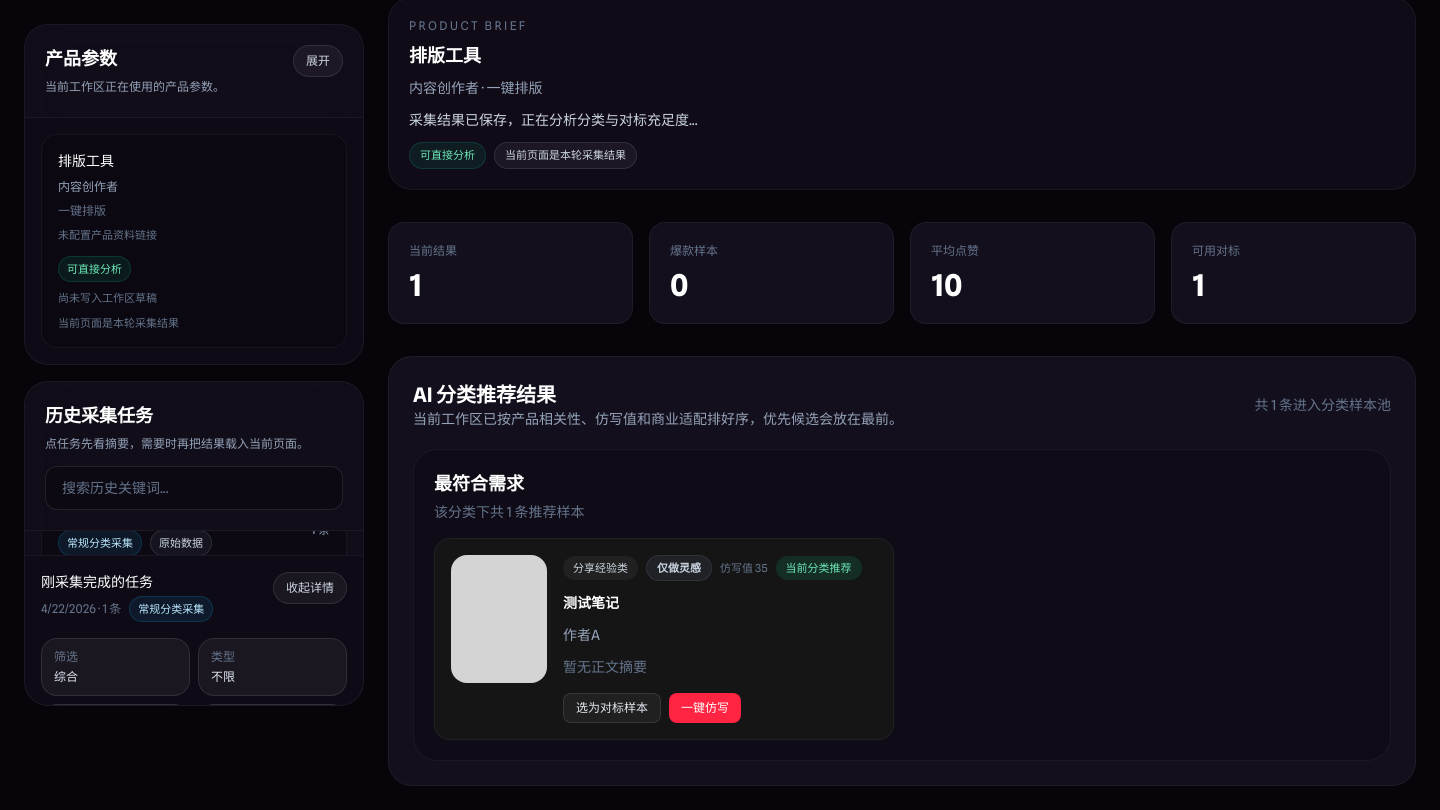
Test: ScraperView history persistence flow › keeps the restored history workspace when live analysis finishes later
(page scrolled)
Step 1. Click the button "更早的历史任务 常规分类采集 原始数据 4/21/2026 1 条 综合 / 不限 / 不限" → (194, 543), box [58,502,330,584]
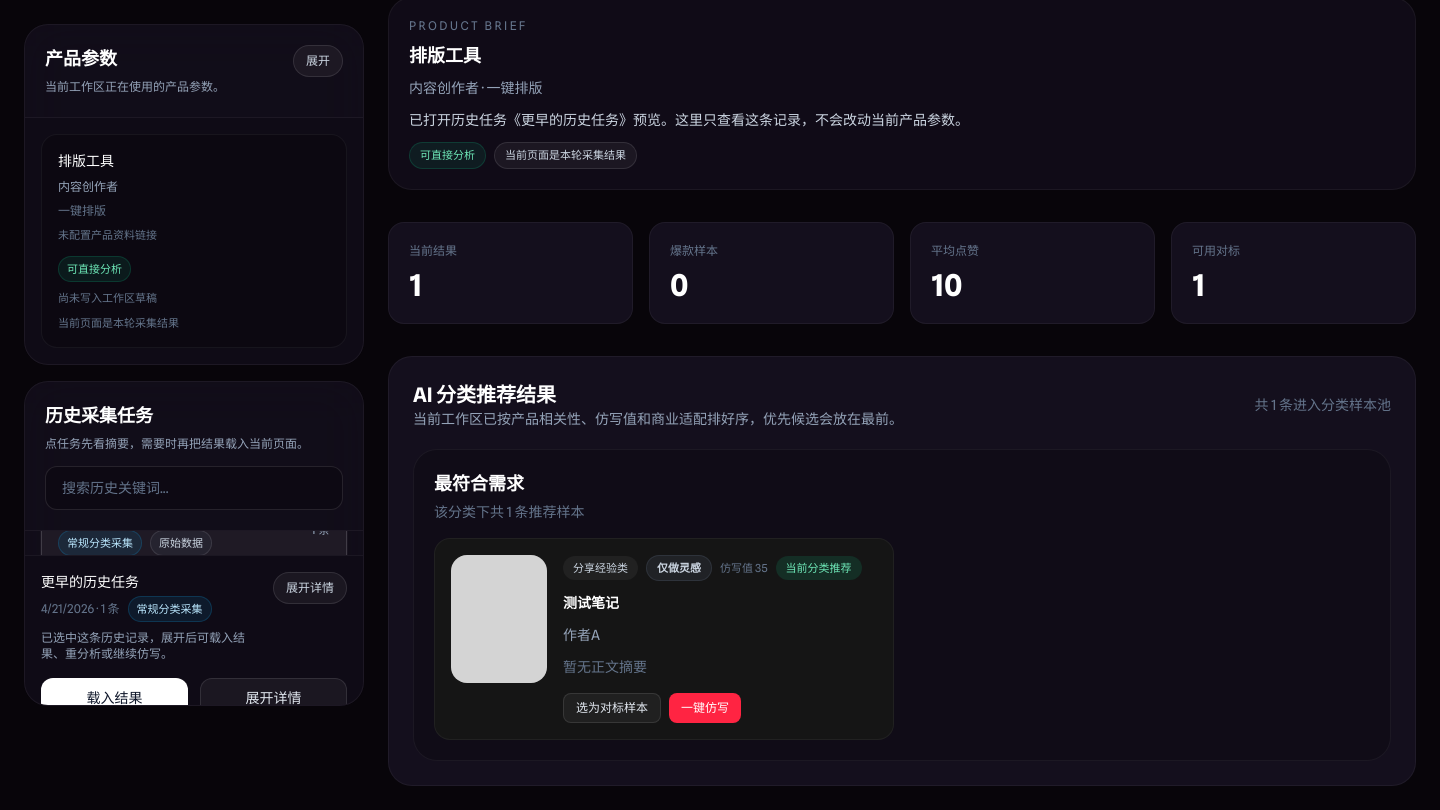
Step 2. Click the button "载入结果" → (114, 698), box [41,678,188,718]
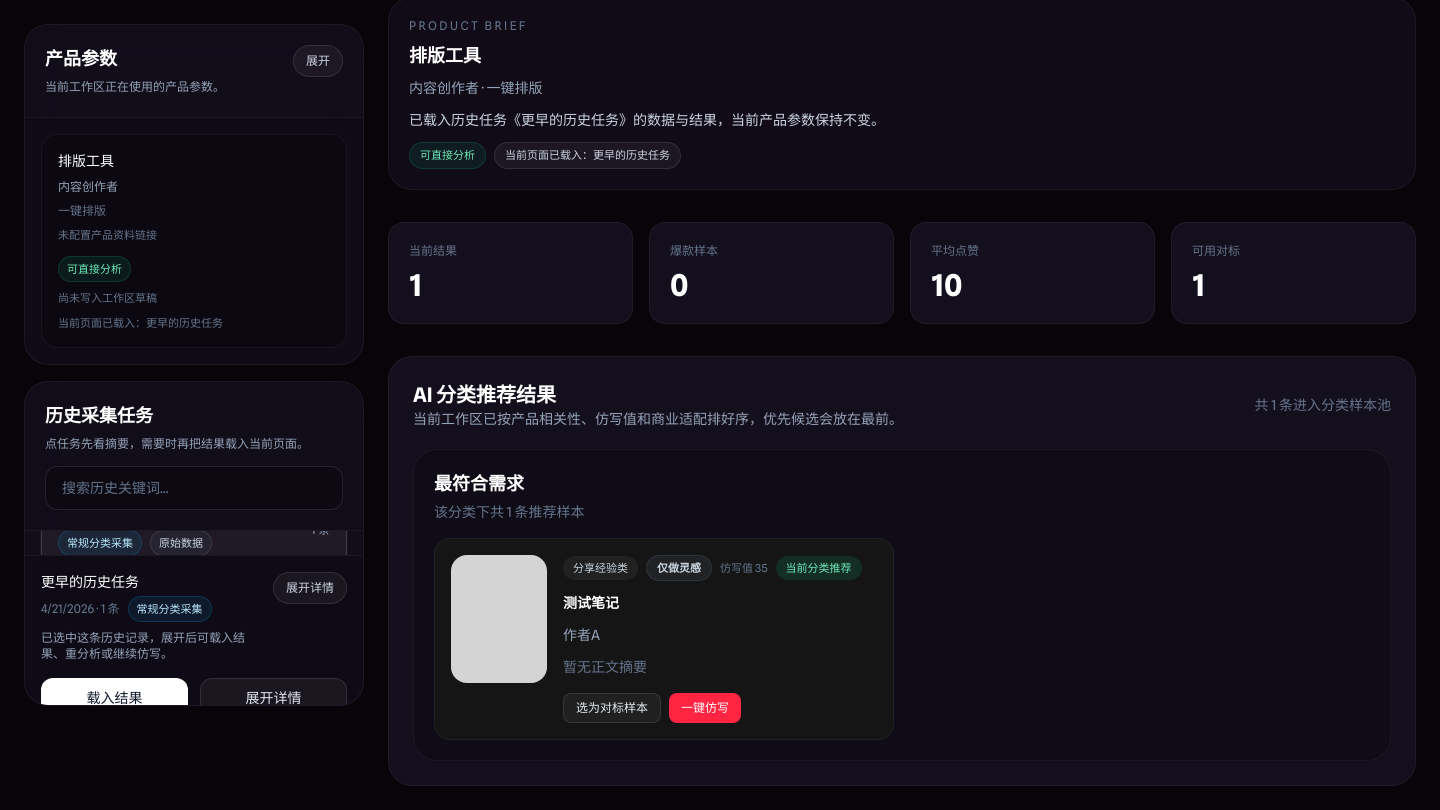
Expected: the text "当前页面已载入：更早的历史任务" below "尚未写入工作区草稿" is shown, [58,316,223,330]
